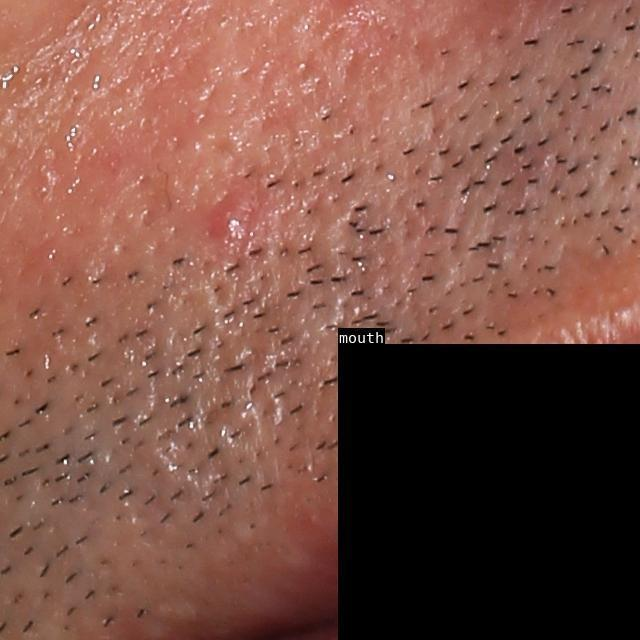papule: (206, 163, 270, 255)
